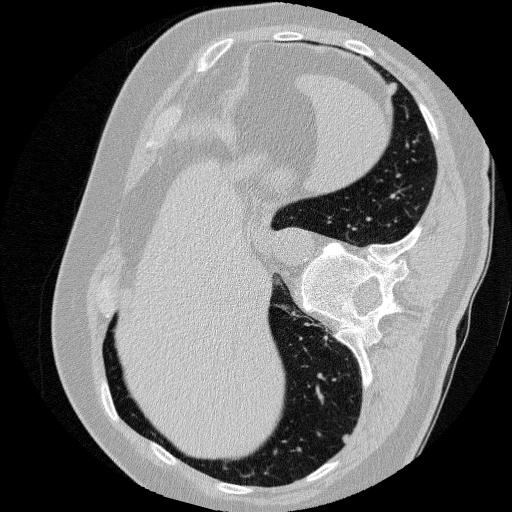nodule: (337, 431, 354, 448)
